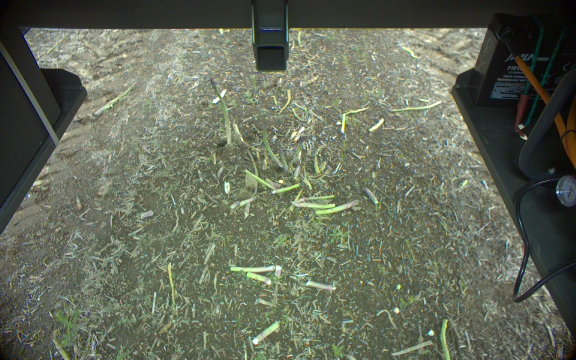aspa: (207, 79, 232, 145), (242, 167, 278, 193), (436, 316, 454, 360), (262, 126, 279, 170), (250, 320, 279, 345), (228, 260, 277, 273), (315, 200, 361, 213), (292, 199, 338, 210), (245, 269, 272, 286), (270, 182, 303, 195), (361, 186, 380, 207), (306, 280, 336, 293), (295, 194, 336, 203), (276, 147, 290, 173), (367, 117, 384, 133), (239, 194, 258, 208), (337, 113, 348, 134)
